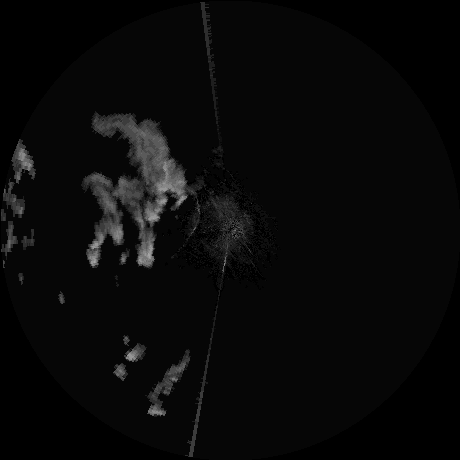frontgust: (187, 189, 202, 241)
